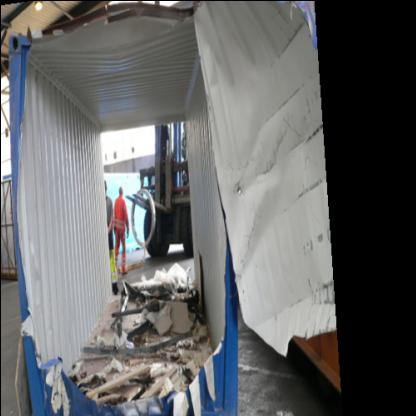Damage: (6, 26, 253, 415)
